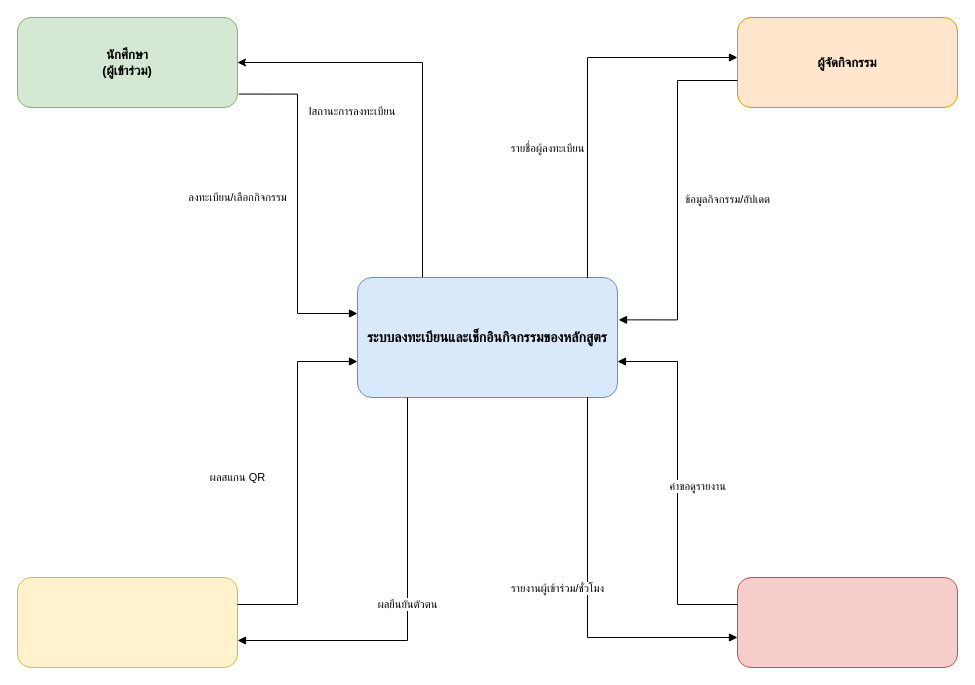
This 975x685 diagram has some shape labels left out. Each missing label, with the centre of its shape:
อาจารย์/ผู้ดูแลหลักสูตร: the point at 847,622
เจ้าหน้าที่เช็กอิน: the point at 127,622
